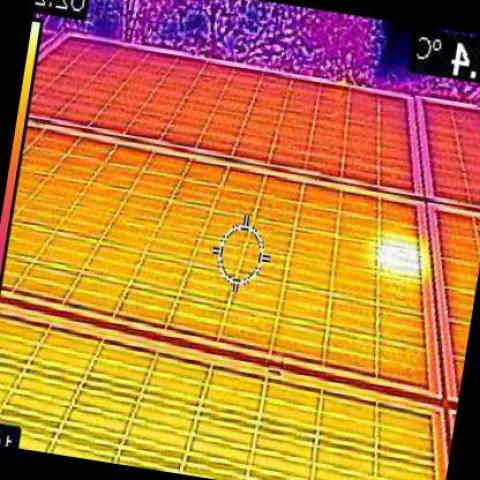fault: (378, 240, 422, 273)
